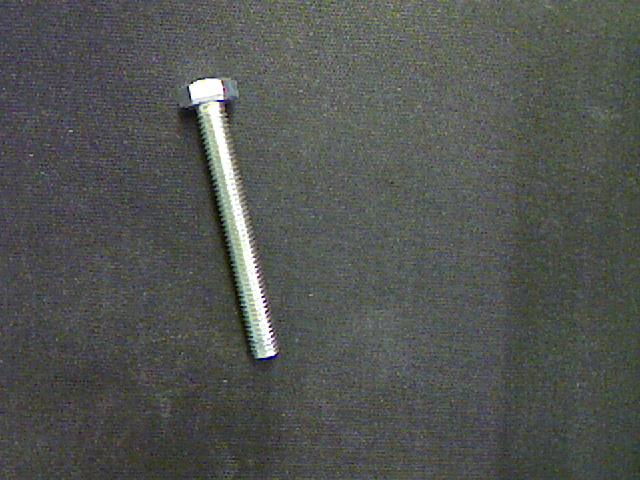Screw: (177, 77, 279, 359)
